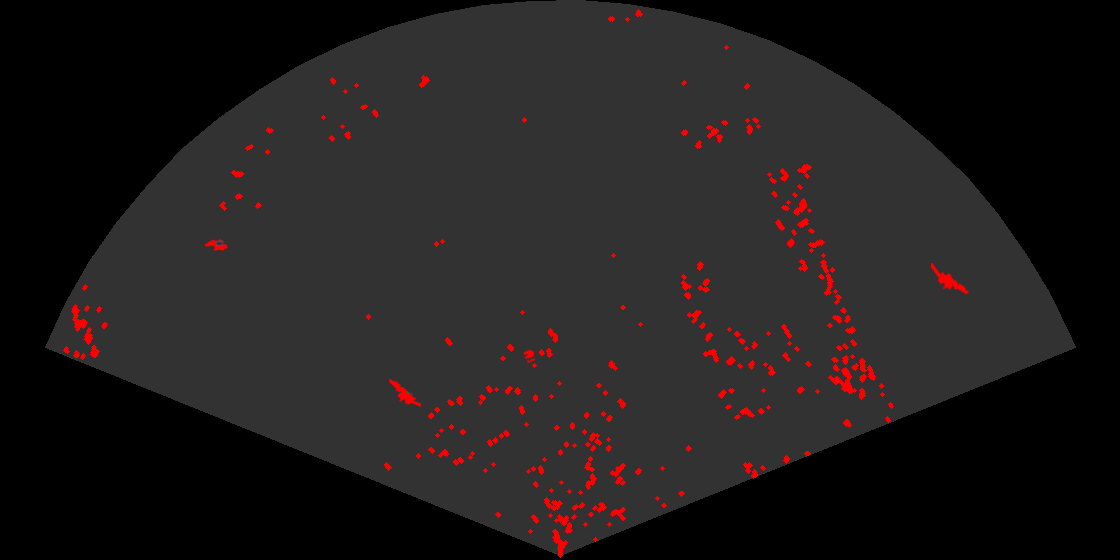AUV: (203, 238, 229, 253)
ball: (522, 348, 537, 364)
frogman: (931, 263, 971, 299), (381, 377, 421, 408)
